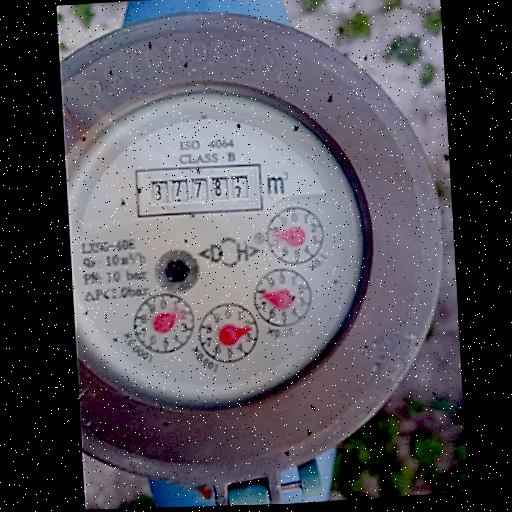1: (233, 176, 248, 197)
3: (151, 181, 168, 205)
7: (172, 179, 189, 203), (192, 177, 209, 201)
8: (213, 177, 228, 199)
border_water_meter_number: (133, 161, 263, 218)
